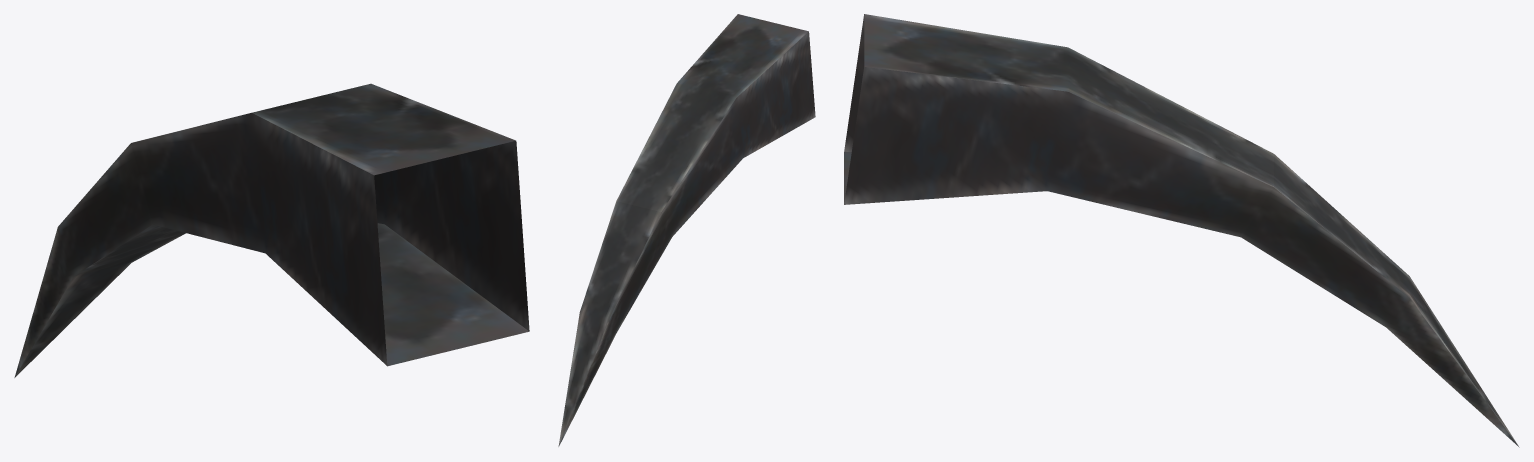
File: A_tiezhui05.fbx
3 renders of one model, left to right at view 1: azimuth 30°, elevation 25°; view 2: azimuth 150°, elevation 25°; view 3: azimuth 270°, elevation 25°, orthographic. The views are drawn at different scales.
Parts seen in each view (by area): view 1: A_tiezhui05; view 2: A_tiezhui05; view 3: A_tiezhui05.
Part boxes in pixels (<box>): A_tiezhui05: <box>14,83,529,377</box>; A_tiezhui05: <box>558,14,815,446</box>; A_tiezhui05: <box>844,14,1519,447</box>.
Size of the model in its own units: 23.2 by 83.46 by 125.
